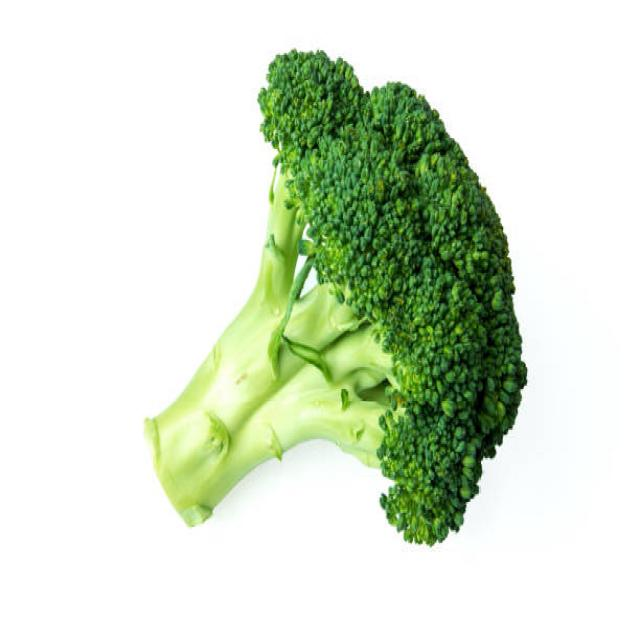broccoli: (78, 11, 546, 551)
